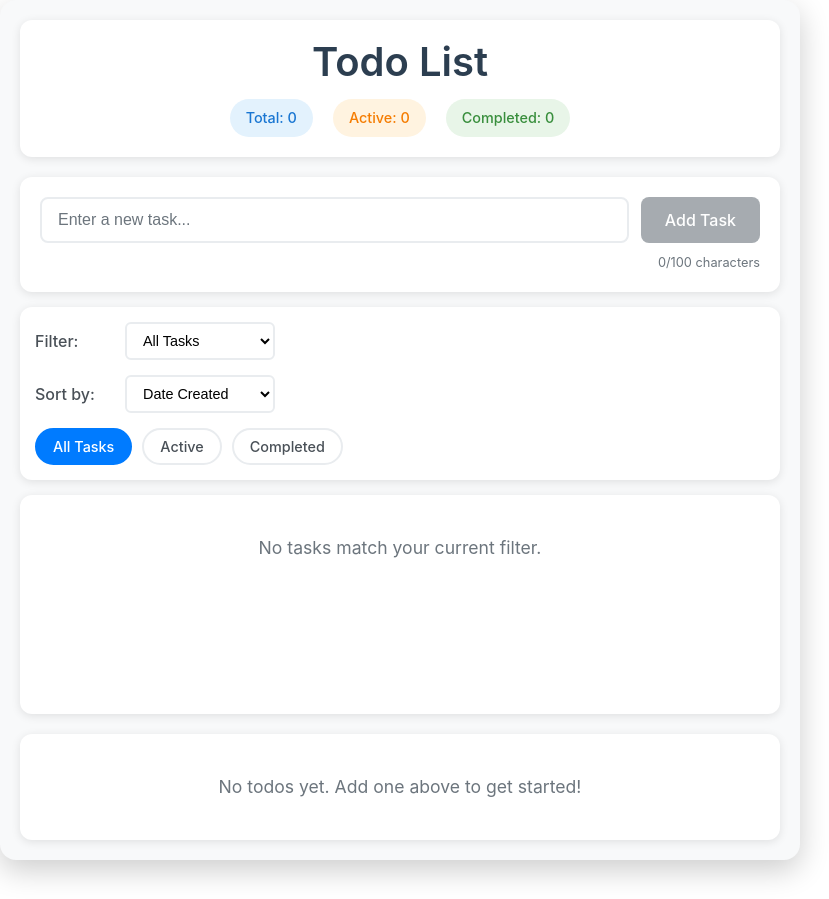
TodoApp › adds a new todo when form is submitted
The width and height of the screenshot is (829, 899).
Type "Test todo" into the field with placeholder "Enter a new task...".
click(334, 220); type("Test todo")  # box [40, 197, 629, 243]
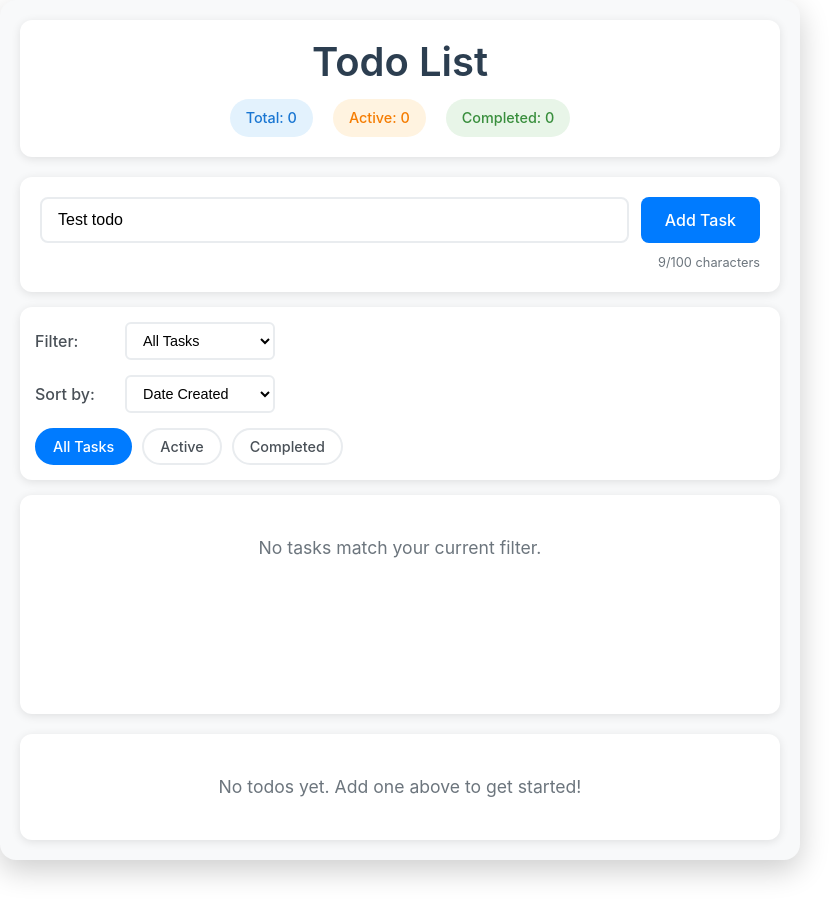
Click the button "Add Task".
click(700, 220)  # box [641, 197, 760, 243]
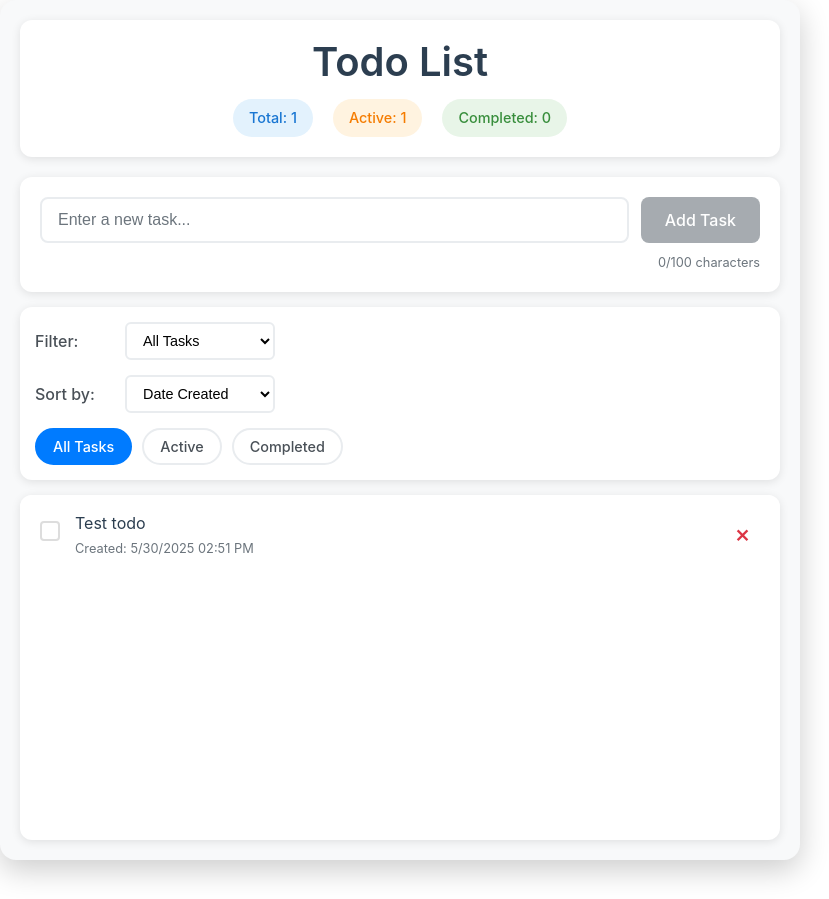
Expected: the text "Test todo" is shown, [75, 513, 146, 533]
Expected: the text "Total: 1" is shown, [233, 99, 313, 137]
Expected: the text "Active: 1" is shown, [333, 99, 422, 137]
